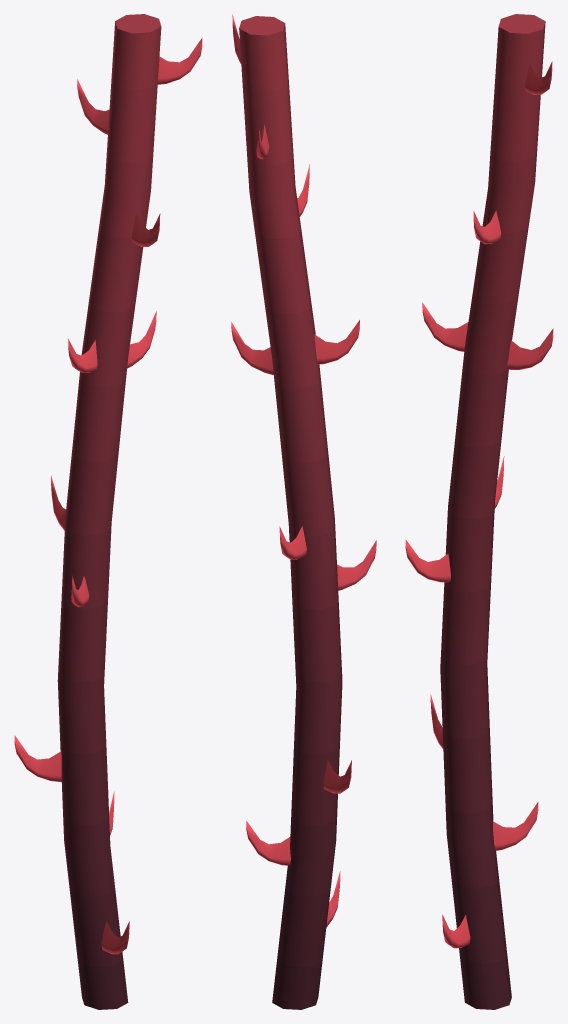
The model's file is Rose_Thorn_Source_2_Adjusted.fbx.
3 views of the same model, side by side, from view 1: azimuth 30°, elevation 25°; view 2: azimuth 150°, elevation 25°; view 3: azimuth 330°, elevation 25° (orthographic).
Parts seen in each view (by area): view 1: Rose_Thorn_Source_2_Adjusted; view 2: Rose_Thorn_Source_2_Adjusted; view 3: Rose_Thorn_Source_2_Adjusted.
Boxes of the visible parts, box(x1,y1,x2,y2) form: Rose_Thorn_Source_2_Adjusted: box(14, 14, 202, 1009); Rose_Thorn_Source_2_Adjusted: box(231, 14, 376, 1009); Rose_Thorn_Source_2_Adjusted: box(405, 14, 553, 1009).
Bounding box in the file's own units: 1.81 × 10.87 × 1.42.
